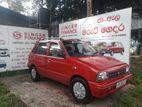car: (27, 36, 132, 103)
